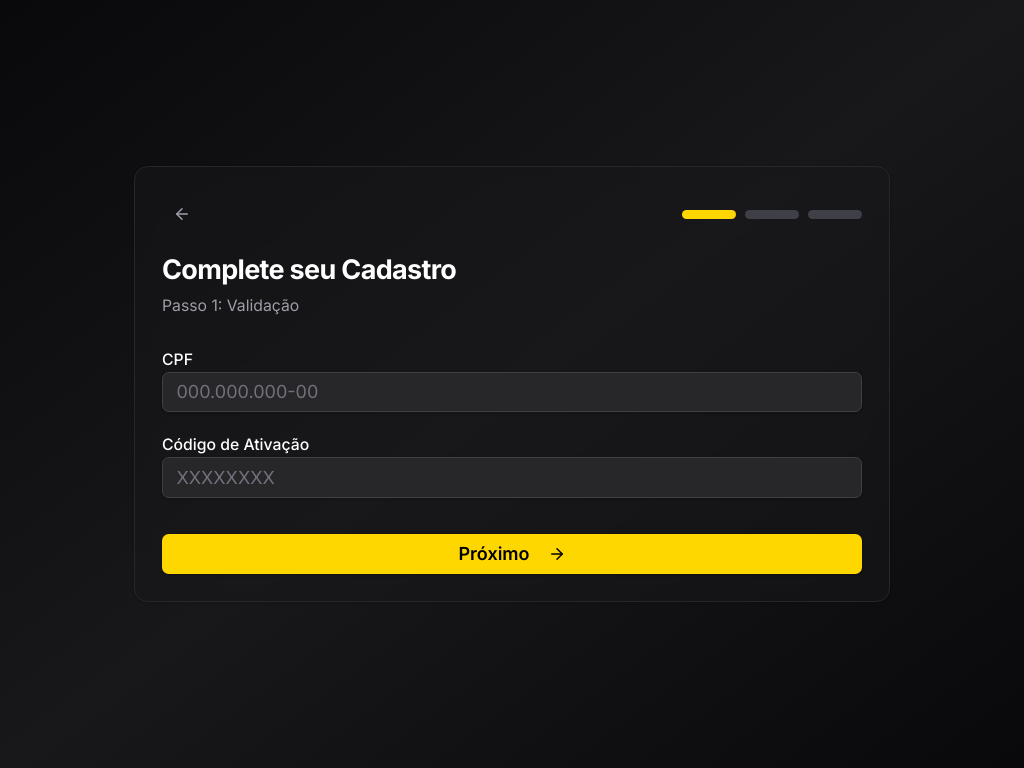
Test case: Complete Registration Page › Step 1 - Validation › should validate empty CPF
The image size is (1024, 768).
Click the button with test id "step1-next-button" at {"x": 512, "y": 554}, box [162,534,862,574]
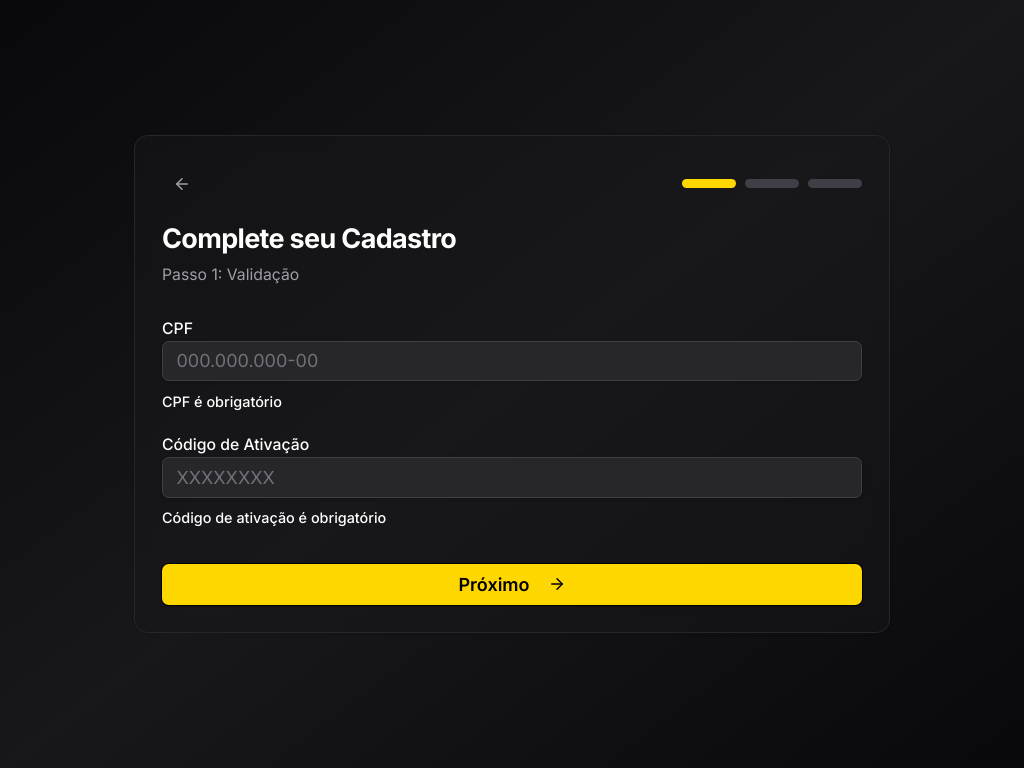
expect the text "CPF é obrigatório" is shown: met, box [162,392,282,410]
